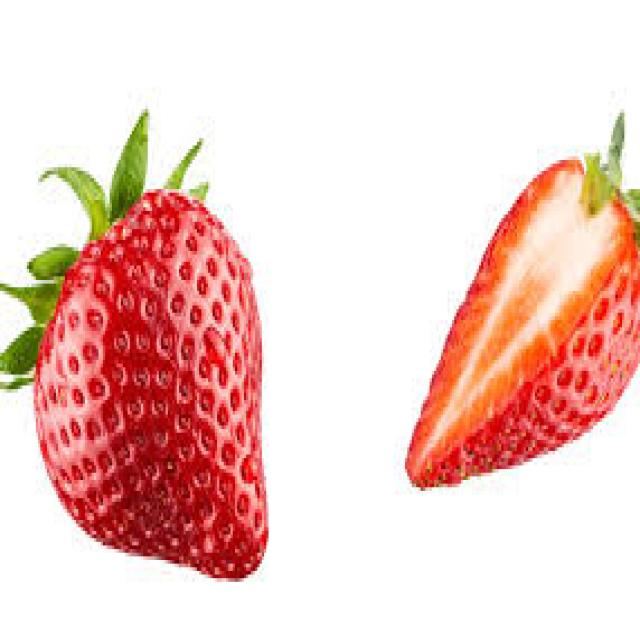strawberry: (2, 99, 297, 596), (407, 137, 637, 491)
